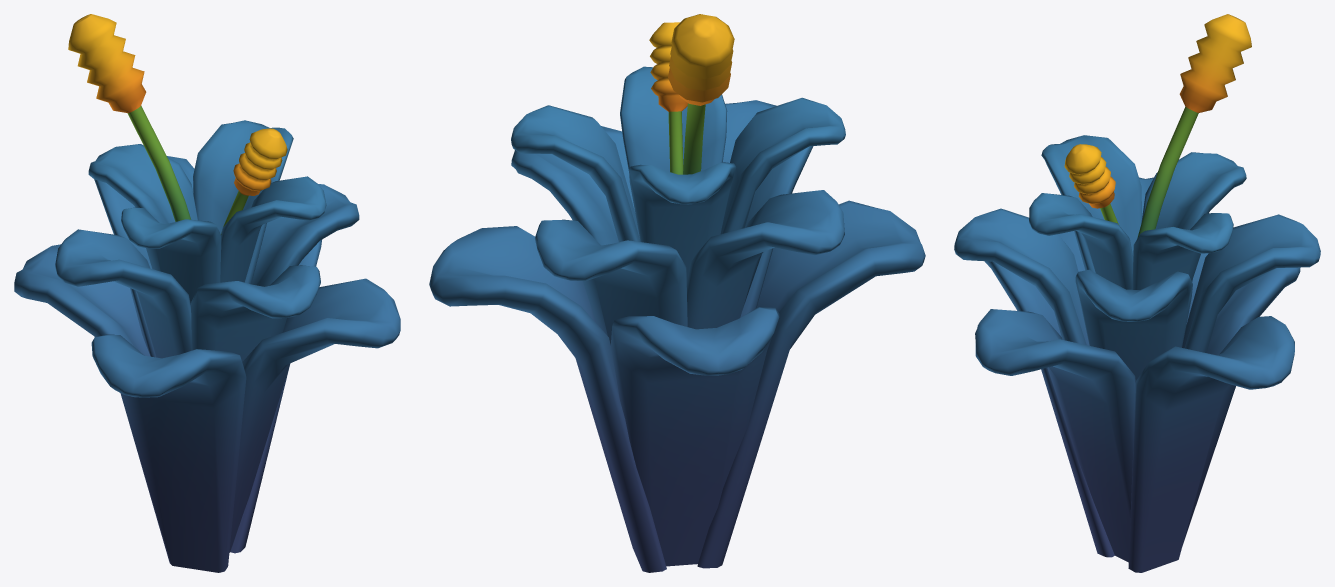
Rendered from Plants_012.fbx.
The picture shows the model from 3 angles, left to right: view 1: azimuth 30°, elevation 25°; view 2: azimuth 150°, elevation 25°; view 3: azimuth 270°, elevation 25°; orthographic projection. The views are drawn at different scales.
Visible parts, largest first — view 1: Plants.012; view 2: Plants.012; view 3: Plants.012.
Part boxes in pixels (box(x1,y1,x2,y2)): Plants.012: box(14, 14, 400, 572); Plants.012: box(429, 14, 925, 572); Plants.012: box(954, 14, 1320, 572).
Size of the model in its own units: 460 by 733 by 481.
